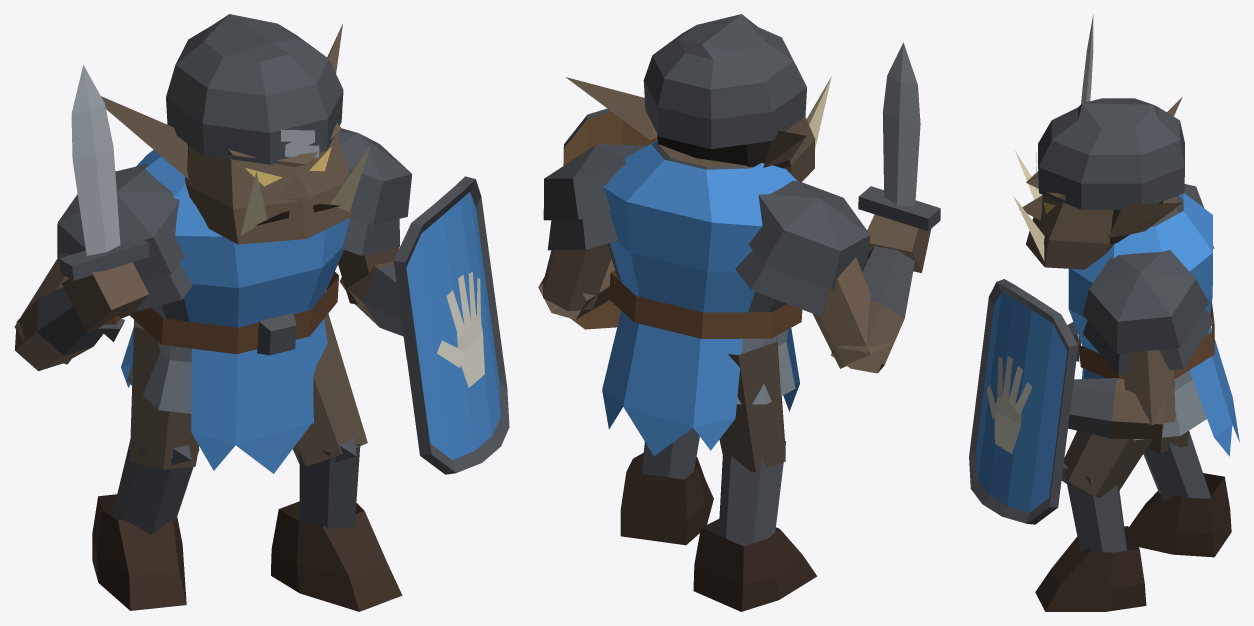
Rendered from ugluk.glb.
3 renders of one model, left to right at view 1: azimuth 30°, elevation 25°; view 2: azimuth 150°, elevation 25°; view 3: azimuth 270°, elevation 25°, orthographic. The views are drawn at different scales.
Visible parts, largest first — view 1: ugluk; view 2: ugluk; view 3: ugluk.
Boxes of the visible parts, left/top/right/bottom form: ugluk: left=14, top=14, right=509, bottom=611; ugluk: left=538, top=14, right=940, bottom=611; ugluk: left=969, top=15, right=1239, bottom=611.
Size of the model in its own units: 1.11 by 1.46 by 0.7443.
